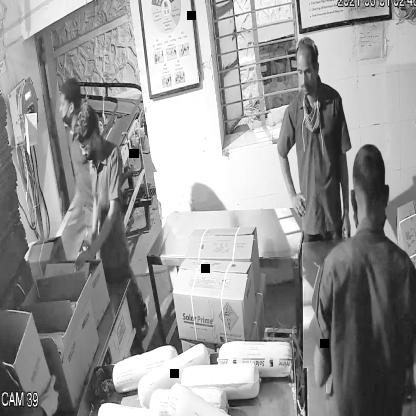no_goggles: (293, 60, 321, 82)
